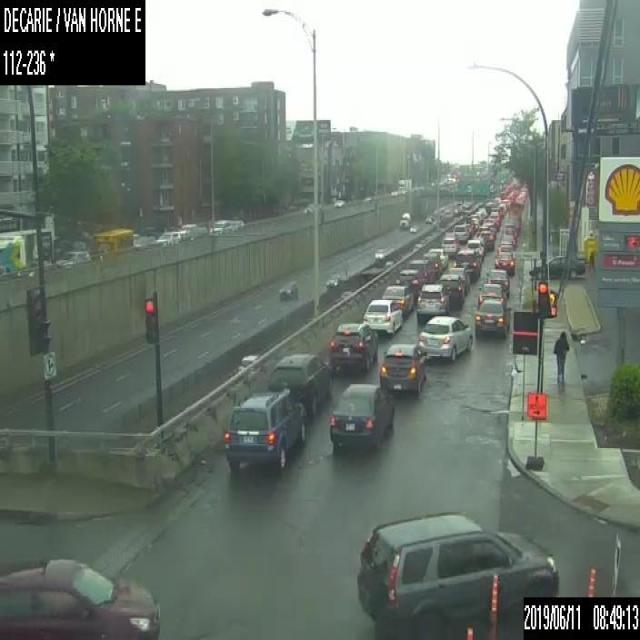bus: (89, 227, 133, 262), (0, 230, 25, 273)
construction: (524, 391, 546, 469), (485, 573, 498, 639), (586, 564, 596, 596), (464, 622, 474, 638)
pedestrian: (552, 329, 571, 384)
vehicle: (356, 509, 538, 639), (0, 550, 160, 638), (222, 387, 305, 469), (328, 381, 393, 447), (269, 352, 332, 416), (377, 342, 426, 396), (329, 322, 378, 374), (418, 314, 472, 360), (475, 298, 511, 338), (363, 298, 402, 334), (529, 255, 585, 278), (415, 283, 450, 317), (380, 284, 412, 316), (436, 273, 464, 308), (396, 268, 422, 302), (477, 283, 508, 308), (455, 249, 480, 280), (446, 266, 473, 294), (543, 552, 559, 596), (485, 268, 509, 295), (16, 260, 51, 278), (54, 249, 90, 266), (407, 258, 430, 284), (420, 252, 443, 278), (494, 250, 515, 275), (465, 238, 483, 264), (441, 231, 458, 258), (428, 248, 448, 268), (210, 218, 232, 236), (236, 353, 258, 371), (496, 242, 516, 259), (279, 280, 297, 298), (453, 223, 469, 242), (462, 213, 474, 236), (478, 230, 494, 247), (179, 222, 196, 238), (156, 232, 174, 245), (325, 273, 341, 287), (502, 223, 516, 239), (398, 179, 412, 193), (482, 222, 495, 237), (497, 239, 513, 251), (490, 210, 500, 226), (400, 212, 410, 227), (339, 286, 351, 298), (231, 219, 244, 230), (476, 226, 488, 237), (374, 247, 385, 258), (170, 231, 182, 241), (470, 217, 478, 230), (442, 177, 454, 185), (333, 198, 346, 205), (409, 224, 417, 232), (390, 189, 398, 194)
